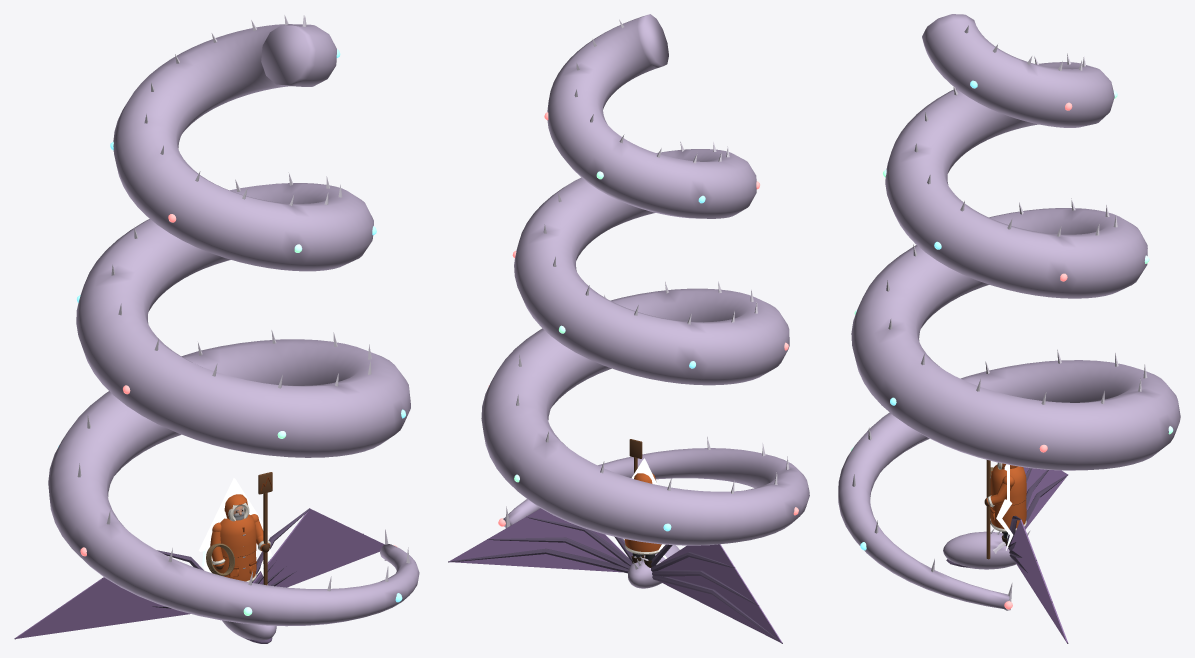
Rendered from peaksfolk.glb.
3 renders of one model, left to right at view 1: azimuth 30°, elevation 25°; view 2: azimuth 150°, elevation 25°; view 3: azimuth 270°, elevation 25°, orthographic. The views are drawn at different scales.
Parts seen in each view (by area): view 1: wyr_body, wyr_wingR, wyr_wingL, ham_body, wsp_body, wyr_head; view 2: wyr_body, wyr_wingR, wyr_wingL, ham_body, wyr_head; view 3: wyr_body, ham_body, wyr_head, wyr_wingR, wyr_wingL.
Part boxes in pixels (<box>): wyr_body: <box>48,15,419,626</box>; wyr_wingR: <box>252,508,384,587</box>; wyr_wingL: <box>14,550,203,639</box>; ham_body: <box>206,472,272,585</box>; wsp_body: <box>198,478,271,584</box>; wyr_head: <box>222,620,276,643</box>; wyr_body: <box>481,14,809,545</box>; wyr_wingR: <box>448,508,632,573</box>; wyr_wingL: <box>650,544,782,643</box>; ham_body: <box>624,439,661,567</box>; wyr_head: <box>628,545,679,588</box>; wyr_body: <box>838,14,1180,610</box>; ham_body: <box>984,460,1026,559</box>; wyr_head: <box>943,529,1030,569</box>; wyr_wingR: <box>1007,515,1068,643</box>; wyr_wingL: <box>1023,467,1068,529</box>.
Bounding box in the file's own units: 6.41 × 10.02 × 5.49.
